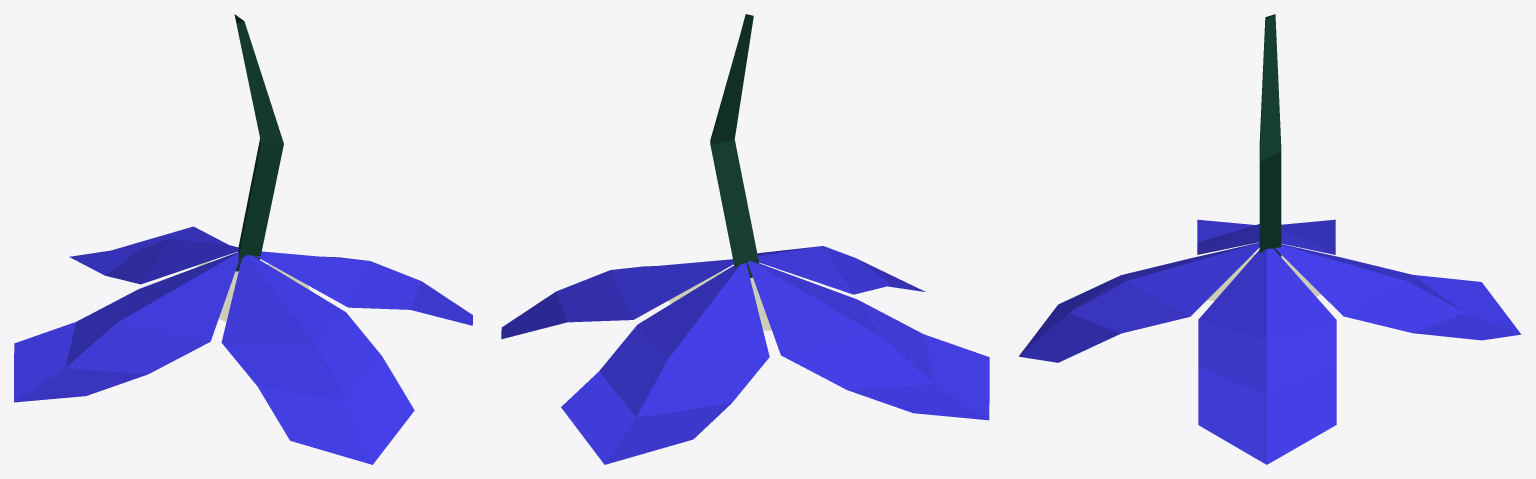
File: flower2.glb
The picture shows the model from 3 angles, left to right: view 1: azimuth 30°, elevation 25°; view 2: azimuth 150°, elevation 25°; view 3: azimuth 270°, elevation 25°; orthographic projection. The views are drawn at different scales.
Parts seen in each view (by area): view 1: flower; view 2: flower; view 3: flower.
Part boxes in pixels (left/top/right/bottom): flower: left=14, top=14, right=472, bottom=464; flower: left=501, top=14, right=989, bottom=464; flower: left=1019, top=14, right=1521, bottom=464.
Bounding box in the file's own units: 7.6 × 5.61 × 7.5.
